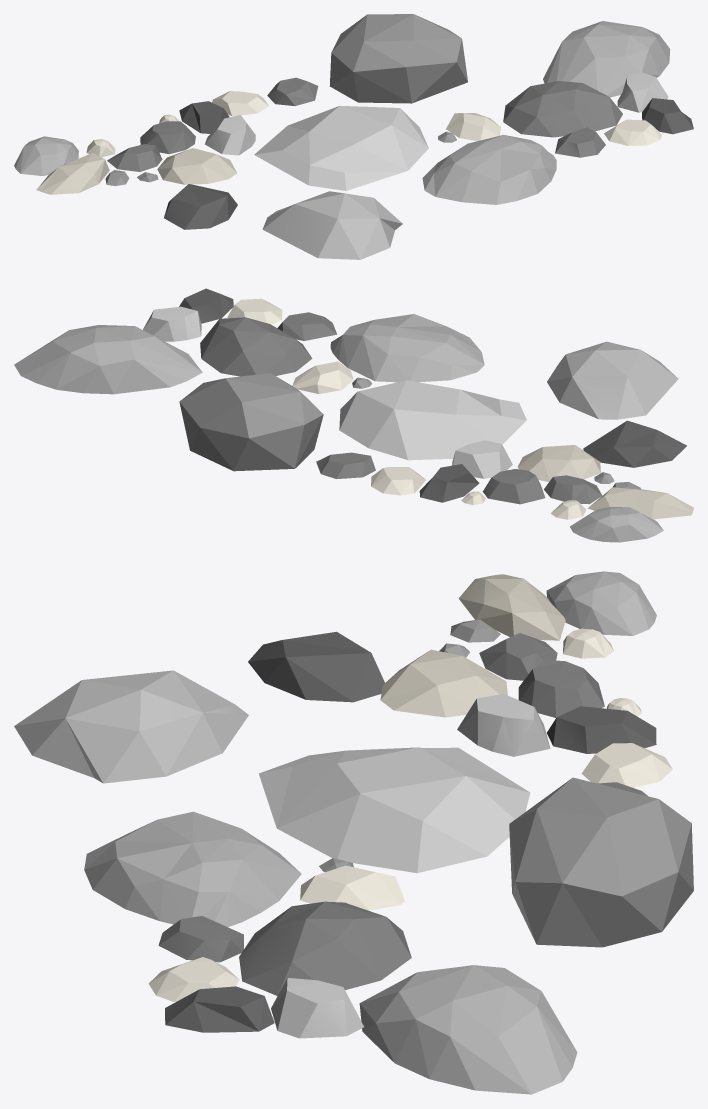
The model's file is EA03_EnvRock_01a.glb.
The picture shows the model from 3 angles, top to bottom: view 1: azimuth 30°, elevation 25°; view 2: azimuth 150°, elevation 25°; view 3: azimuth 270°, elevation 25°; orthographic projection. The views are drawn at different scales.
Parts seen in each view (by area): view 1: EA03_EnvRock_01a; view 2: EA03_EnvRock_01a; view 3: EA03_EnvRock_01a.
Part boxes in pixels (x1=…): EA03_EnvRock_01a: x1=14, y1=14, x2=693, y2=259; EA03_EnvRock_01a: x1=14, y1=288, x2=693, y2=542; EA03_EnvRock_01a: x1=14, y1=571, x2=693, y2=1094.
Size of the model in its own units: 6.56 by 0.6063 by 3.68.
1 material, 1 textured.
